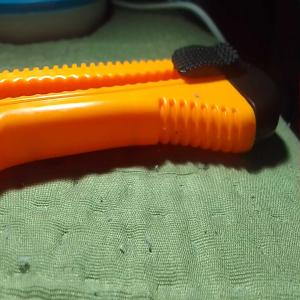estilete: (0, 40, 280, 173)
